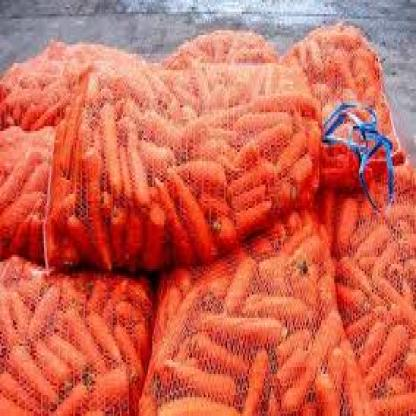Disposable tableware: (7, 9, 416, 416)
